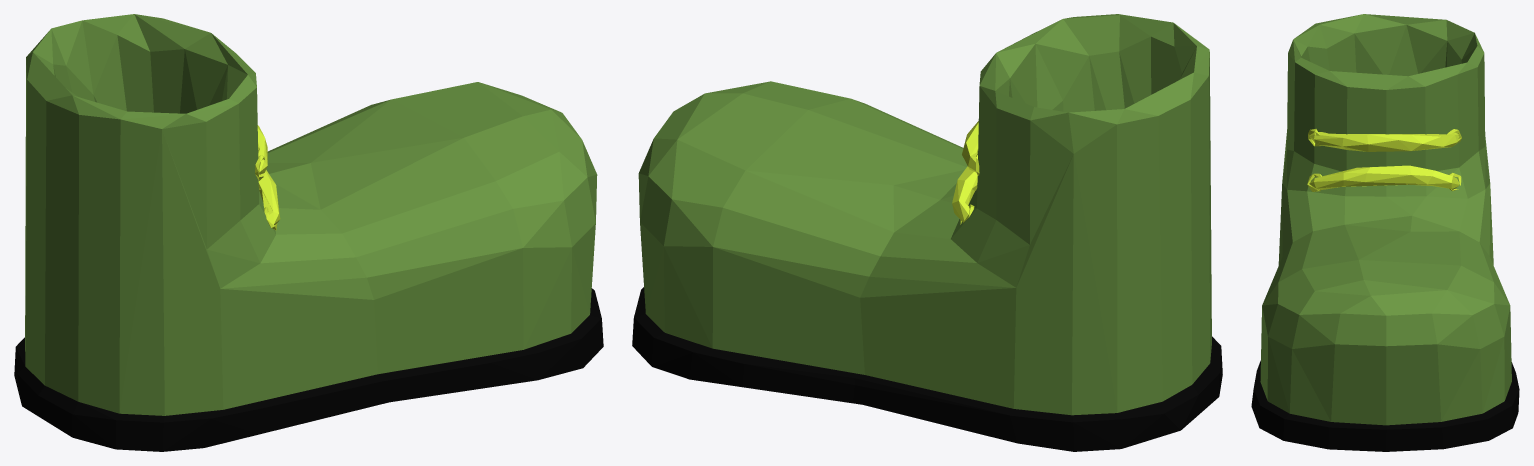
File: shoe_green.fbx
3 renders of one model, left to right at view 1: azimuth 30°, elevation 25°; view 2: azimuth 150°, elevation 25°; view 3: azimuth 270°, elevation 25°, orthographic. The views are drawn at different scales.
Visible parts, largest first — view 1: shoe.003; view 2: shoe.003; view 3: shoe.003.
Boxes of the visible parts, bbox=[...] form: shoe.003: bbox=[14, 14, 603, 451]; shoe.003: bbox=[632, 14, 1222, 451]; shoe.003: bbox=[1251, 14, 1519, 451].
Size of the model in its own units: 80.08 by 47.23 by 45.7.
